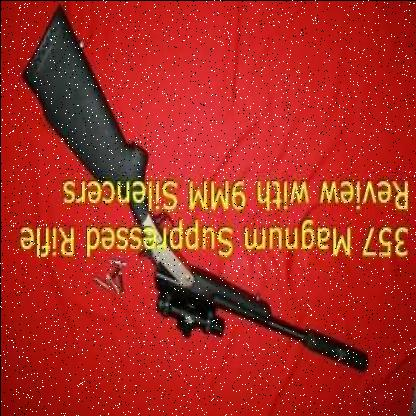rifle: (11, 15, 370, 385)
